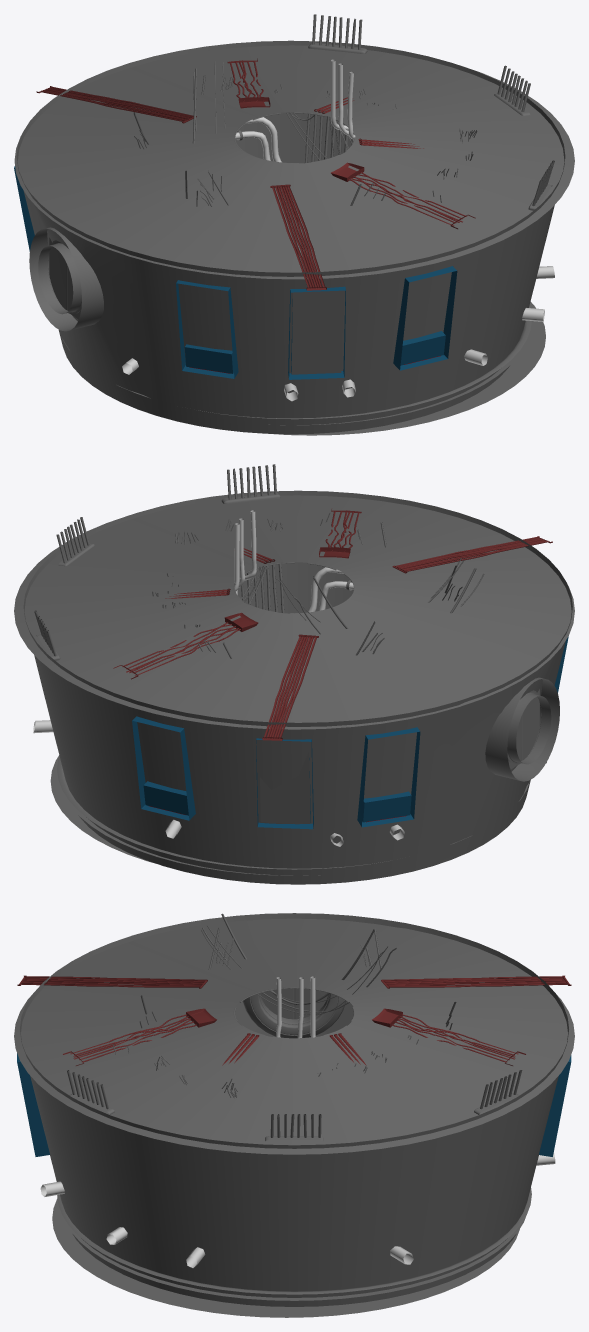
The model's file is ZaryaRoom.fbx.
3 views of the same model, one above another, from view 1: azimuth 30°, elevation 25°; view 2: azimuth 150°, elevation 25°; view 3: azimuth 270°, elevation 25° (orthographic).
Parts seen in each view (by area): view 1: Celling, Walls, Boxes, CablesCelling, FloorPart, FrameDoors, CablesSide, CablesCenterFloor, FatCables001, Door01, FatCables; view 2: Celling, Walls, CablesCelling, Boxes, FrameDoors, FloorPart, CablesSide, FatCables001, Door02, FatCables, CablesCenterFloor; view 3: Celling, Walls, FloorPart, CablesCelling, Boxes, CablesSide, FrameDoors, CablesCenterFloor, FatCables001, Door02, Door01.
Boxes of the visible parts, x1,y1,x2,y2 form: Celling: [14, 45, 574, 279]; Walls: [16, 40, 565, 434]; Boxes: [14, 166, 457, 379]; CablesCelling: [36, 14, 554, 290]; FloorPart: [62, 301, 545, 435]; FrameDoors: [29, 227, 103, 331]; CablesSide: [133, 61, 477, 206]; CablesCenterFloor: [122, 266, 554, 401]; FatCables001: [331, 59, 355, 140]; Door01: [49, 237, 67, 309]; FatCables: [235, 117, 281, 162]; Celling: [14, 495, 574, 729]; Walls: [23, 490, 572, 884]; CablesCelling: [34, 464, 552, 740]; Boxes: [132, 636, 568, 829]; FrameDoors: [485, 677, 559, 781]; FloorPart: [50, 755, 529, 875]; CablesSide: [152, 513, 484, 658]; FatCables001: [233, 510, 256, 594]; Door02: [522, 688, 539, 760]; FatCables: [307, 567, 353, 612]; CablesCenterFloor: [33, 720, 546, 846]; Celling: [14, 918, 574, 1154]; Walls: [20, 913, 568, 1306]; FloorPart: [52, 1188, 531, 1317]; CablesCelling: [17, 975, 571, 1140]; Boxes: [17, 1053, 571, 1156]; CablesSide: [113, 913, 456, 1097]; FrameDoors: [242, 993, 346, 1038]; CablesCenterFloor: [40, 1152, 555, 1267]; FatCables001: [276, 976, 315, 1038]; Door02: [260, 988, 294, 1019]; Door01: [294, 988, 327, 1019].
Size of the model in its own units: 3276 by 1665 by 3276.
